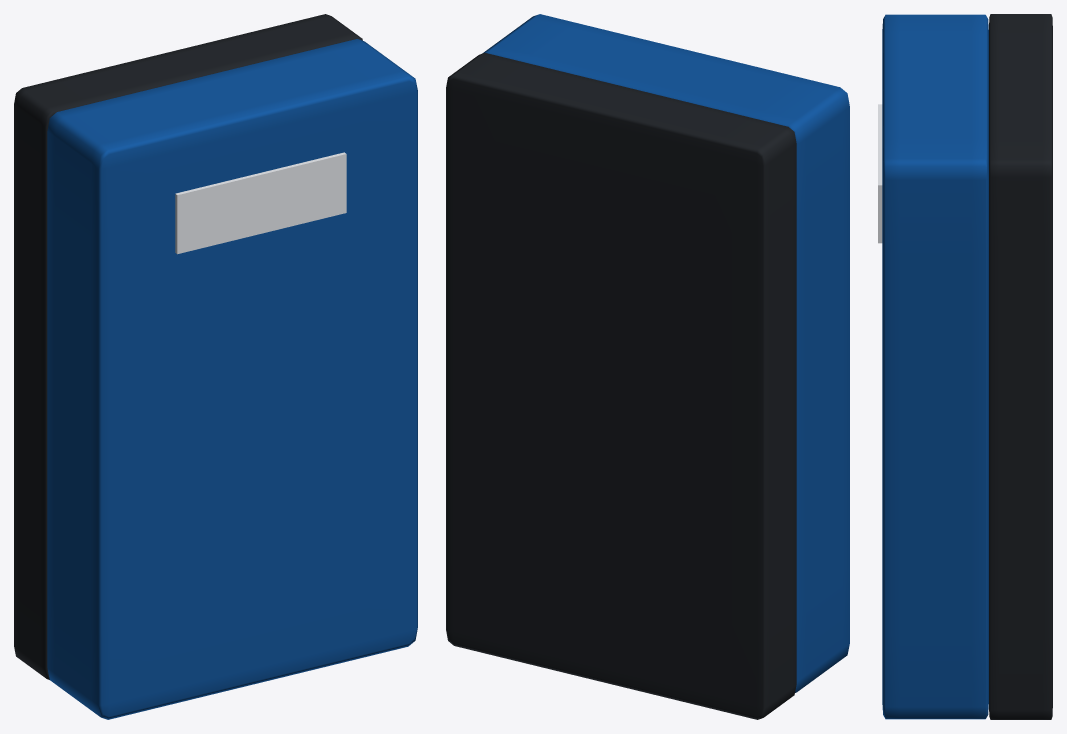
File: victron_lynx_distributor.mid.glb
3 renders of one model, left to right at view 1: azimuth 30°, elevation 25°; view 2: azimuth 150°, elevation 25°; view 3: azimuth 270°, elevation 25°, orthographic.
Visible parts, largest first — view 1: cover, victron_lynx_distributor; view 2: victron_lynx_distributor, cover; view 3: cover, victron_lynx_distributor.
Part boxes in pixels (x1=…): cover: x1=47, y1=39, x2=417, y2=719; victron_lynx_distributor: x1=14, y1=14, x2=362, y2=679; victron_lynx_distributor: x1=446, y1=53, x2=796, y2=719; cover: x1=482, y1=14, x2=849, y2=692; cover: x1=878, y1=14, x2=988, y2=719; victron_lynx_distributor: x1=989, y1=14, x2=1052, y2=719.
Size of the model in its own units: 0.17 by 0.29 by 0.082.
